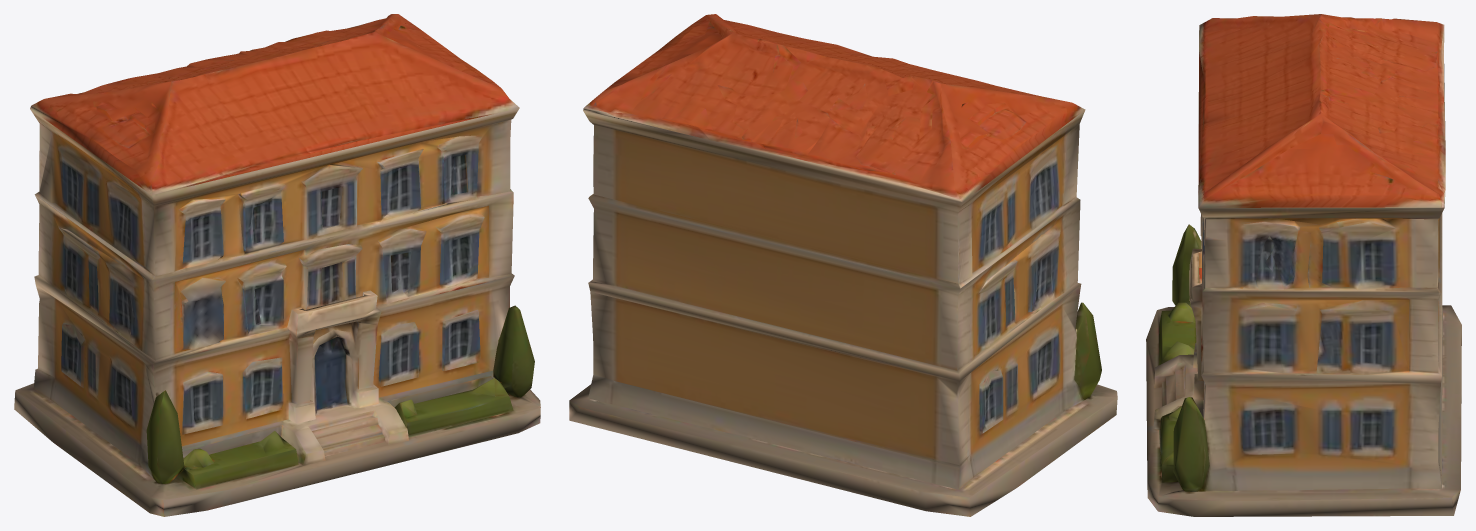
The model's file is home-school.lod.glb.
3 renders of one model, left to right at view 1: azimuth 30°, elevation 25°; view 2: azimuth 150°, elevation 25°; view 3: azimuth 270°, elevation 25°, orthographic. The views are drawn at different scales.
Parts seen in each view (by area): view 1: textured_mesh.obj; view 2: textured_mesh.obj; view 3: textured_mesh.obj.
Boxes of the visible parts, bbox=[...] form: textured_mesh.obj: bbox=[14, 14, 540, 516]; textured_mesh.obj: bbox=[569, 14, 1117, 516]; textured_mesh.obj: bbox=[1146, 14, 1461, 516].
Bounding box in the file's own units: 1.17 × 0.9968 × 0.7981.
1 material, 1 textured.
